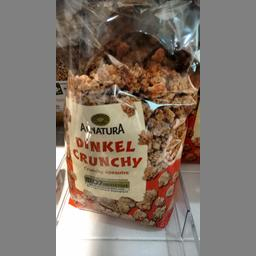cereal: (66, 47, 193, 226)
